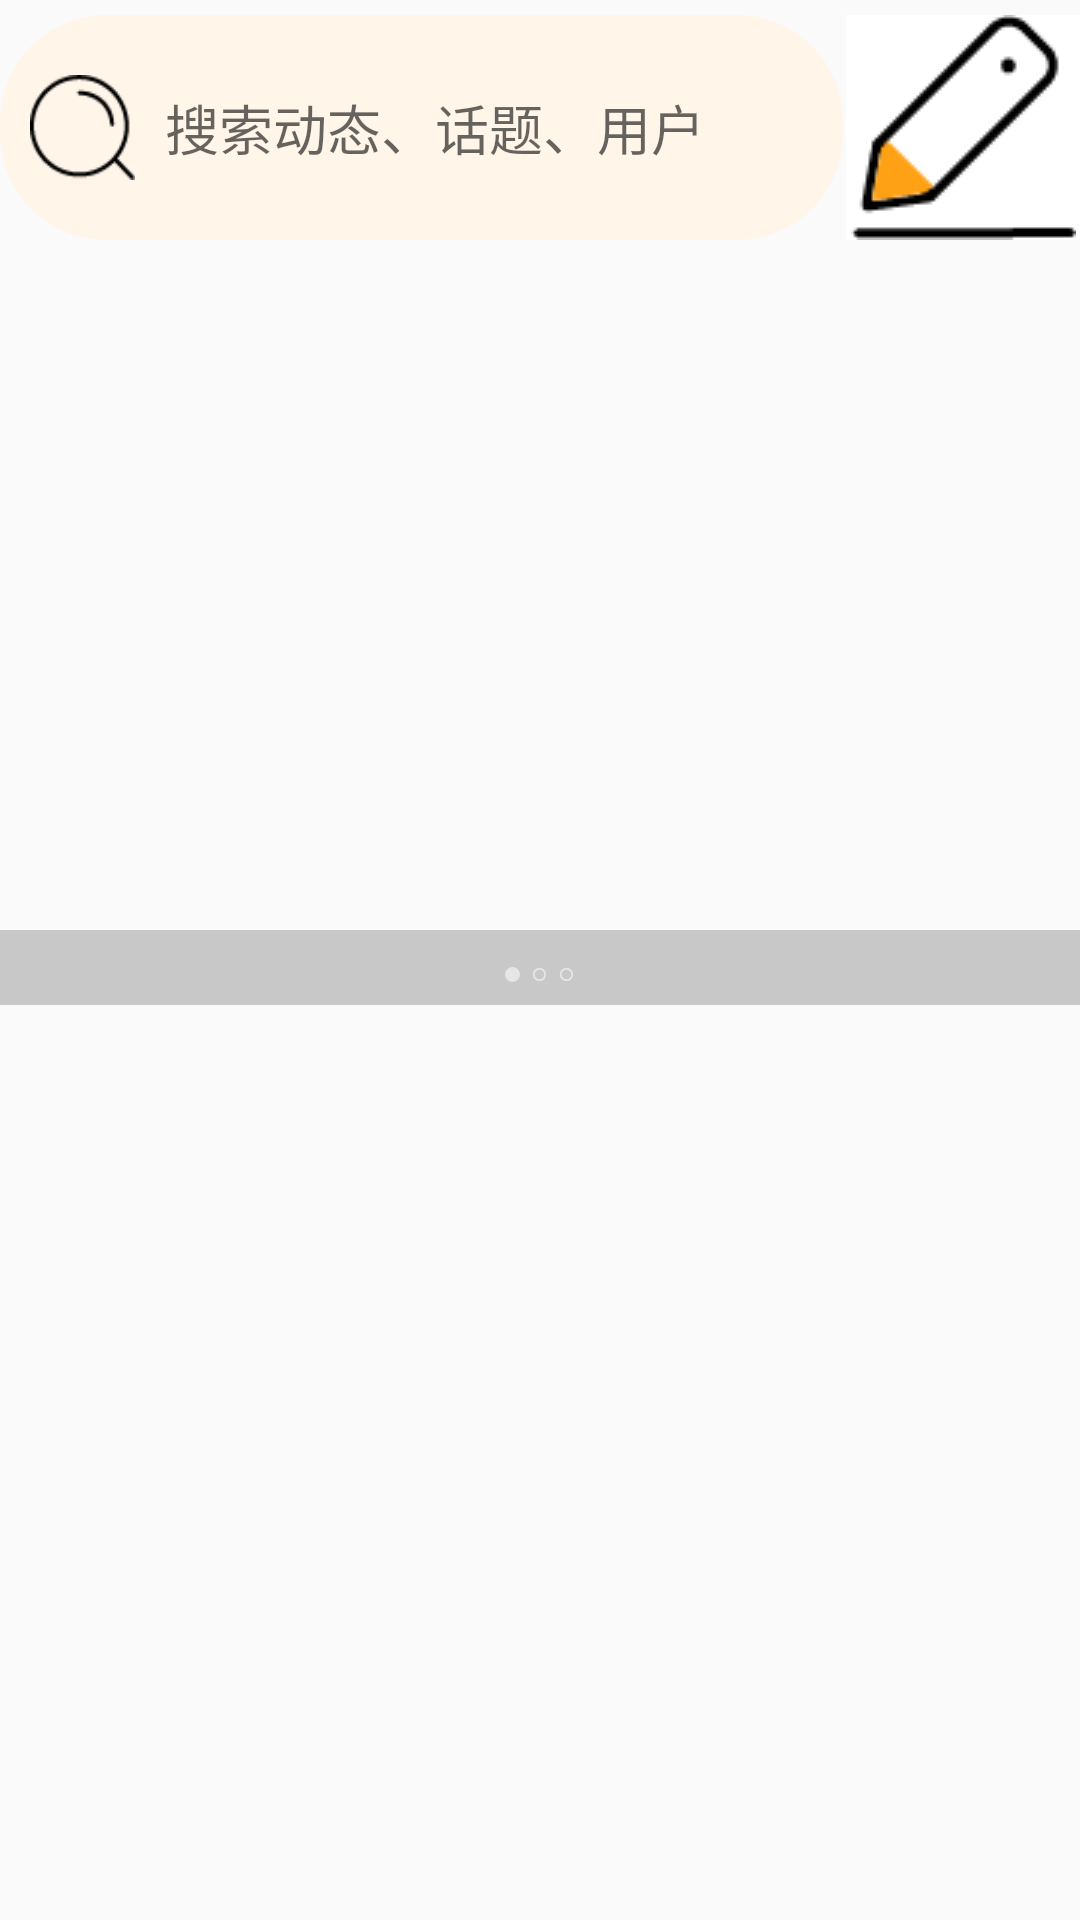

Named icons in this screenshot (1080x1920) and their centers, (x,y):
edit: (963,127)
find: (82,127)
